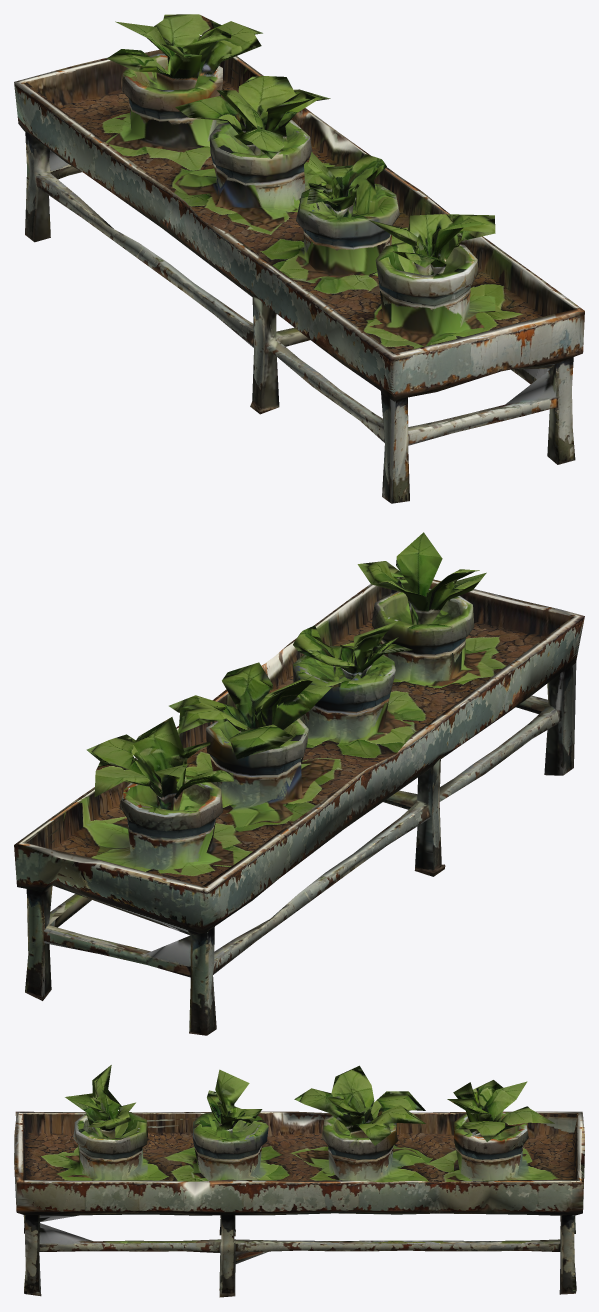
The model's file is EX_Lab_PlantBed.fbx.
3 views of the same model, one above another, from view 1: azimuth 30°, elevation 25°; view 2: azimuth 150°, elevation 25°; view 3: azimuth 270°, elevation 25° (orthographic). The views are drawn at different scales.
Visible parts, largest first — view 1: texture_mapping; view 2: texture_mapping; view 3: texture_mapping.
Part boxes in pixels (box(x1,y1,x2,y2)): texture_mapping: box(14, 14, 584, 503); texture_mapping: box(14, 532, 584, 1035); texture_mapping: box(14, 1065, 584, 1297).
Size of the model in its own units: 0.298 by 0.997 by 0.352.
1 material, 1 textured.
